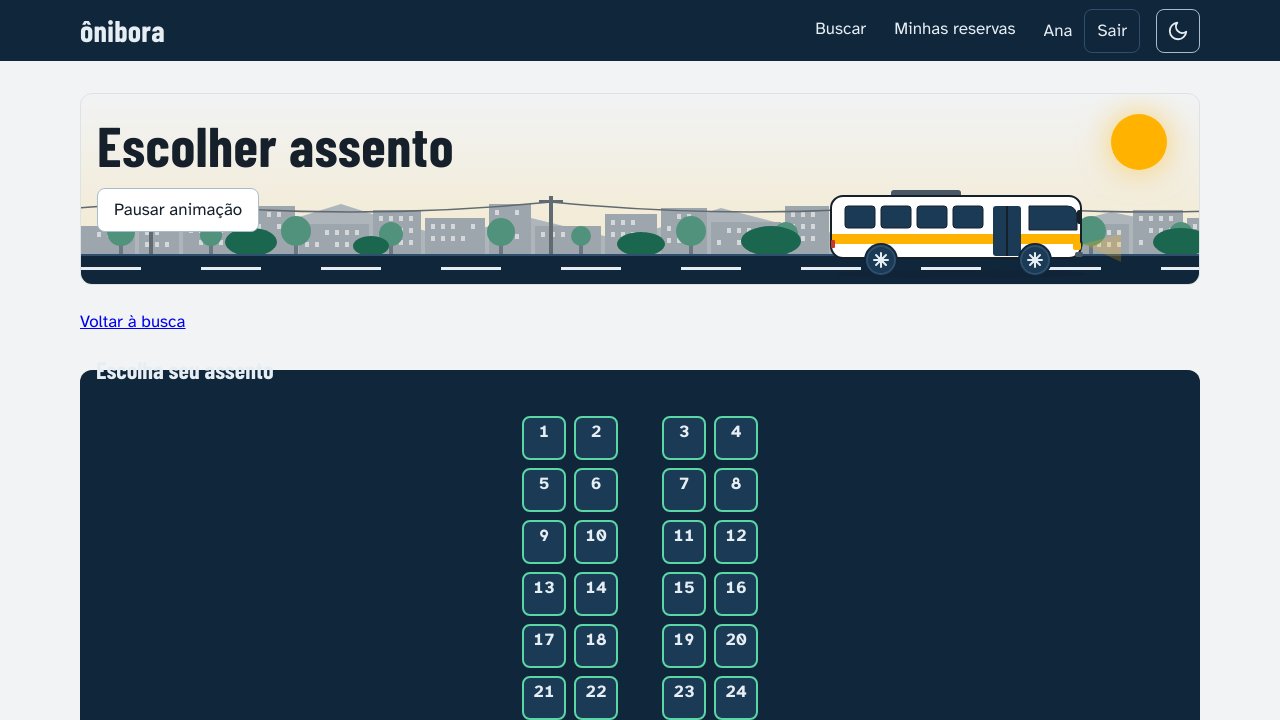
Test: TripPage: reservar o assento › com o assento escolhido e a pessoa logada, oferece "Reservar assento 7"
The image size is (1280, 720).
Click the radio button named "Assento 7, livre".
click(684, 490)  # box [662,468,706,512]
(page scrolled)
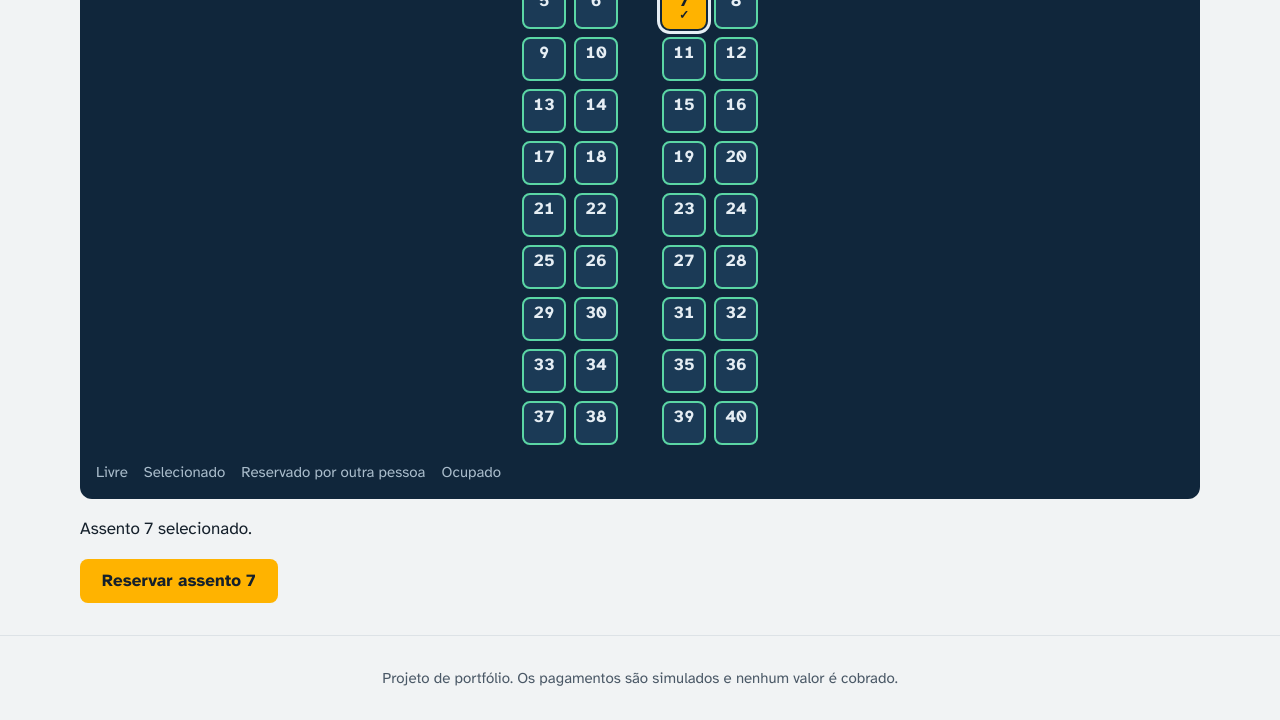
Check: the button "Reservar assento 7" is enabled, box [80,558,278,602]
